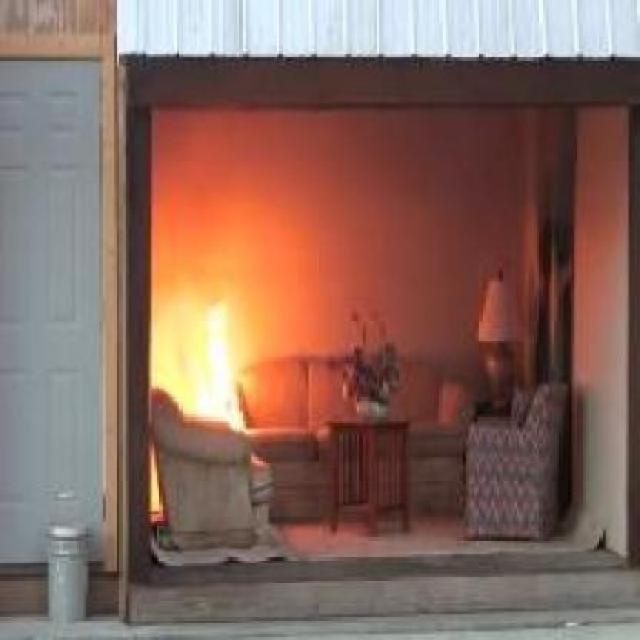fire: (159, 297, 258, 436)
